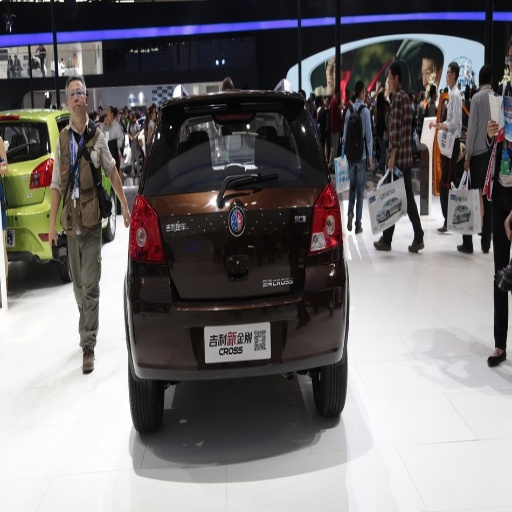back_bumper: (129, 263, 346, 381)
trunk: (153, 183, 321, 311)
